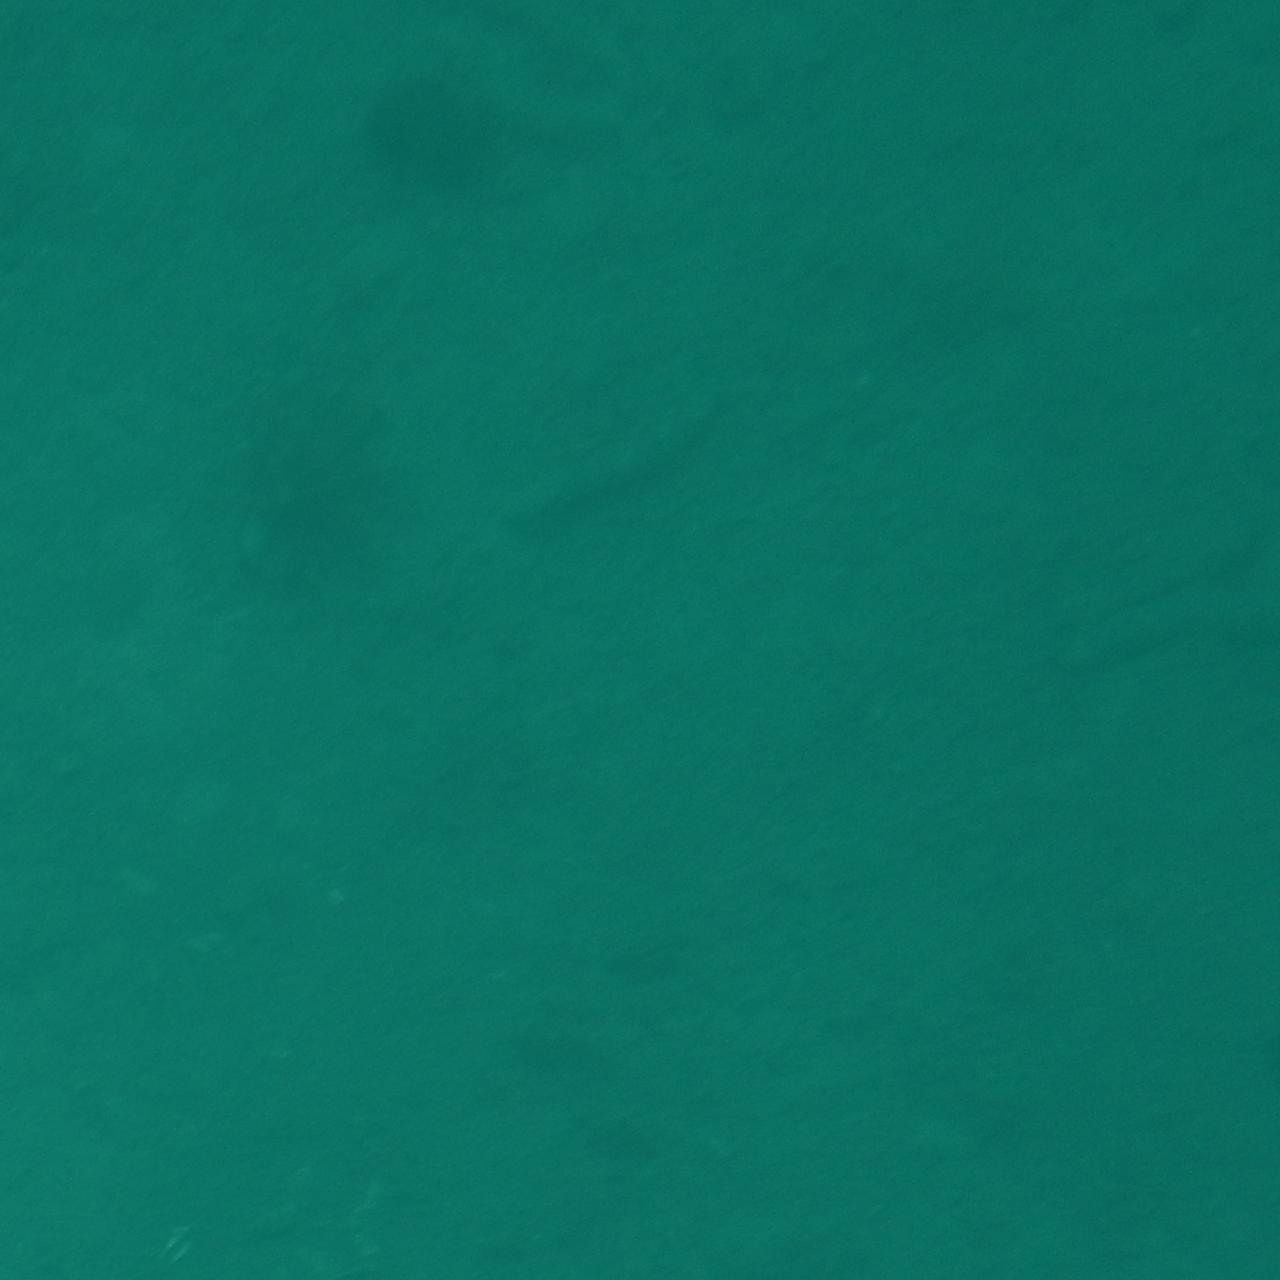Holothuria tubulosa: (492, 353, 788, 544)
